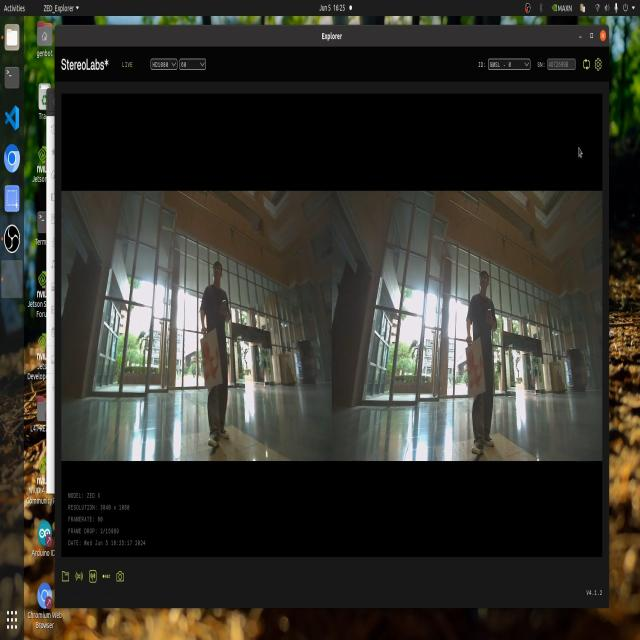red: (198, 331, 222, 382), (467, 339, 487, 388)
